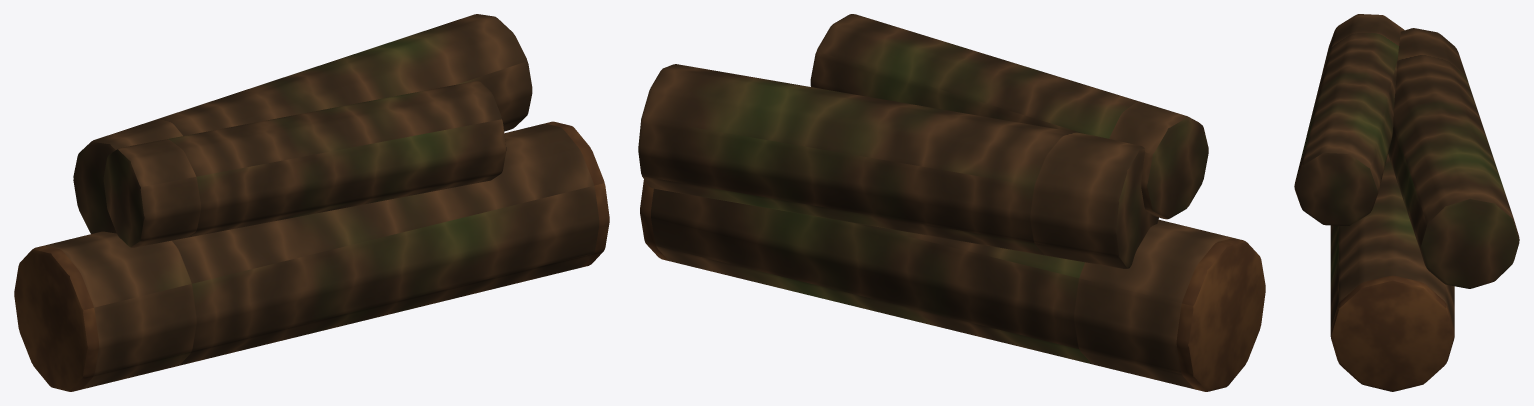
File: resource_timber.fbx
The picture shows the model from 3 angles, left to right: view 1: azimuth 30°, elevation 25°; view 2: azimuth 150°, elevation 25°; view 3: azimuth 270°, elevation 25°; orthographic projection. The views are drawn at different scales.
Parts seen in each view (by area): view 1: resource_timber; view 2: resource_timber; view 3: resource_timber.
Boxes of the visible parts, box(x1,y1,x2,y2) form: resource_timber: box(14, 14, 609, 391); resource_timber: box(638, 14, 1265, 391); resource_timber: box(1294, 14, 1519, 391).
Size of the model in its own units: 2.58 by 1.08 by 1.15.
